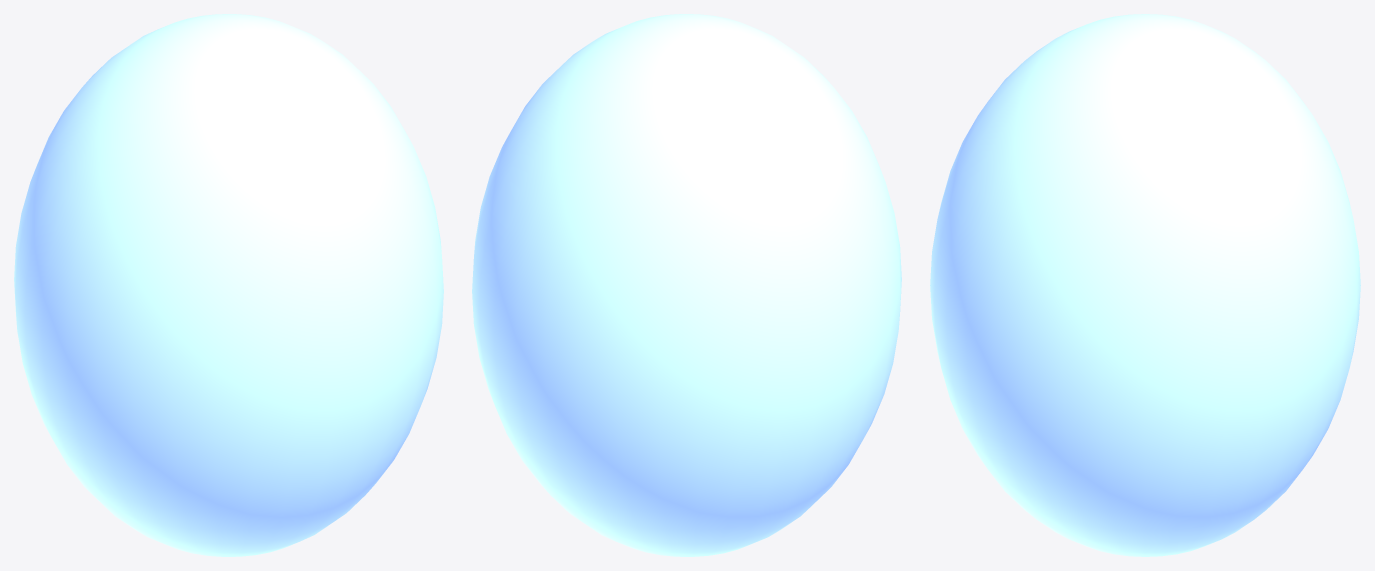
The model's file is chakra_model-l2Km0-la.glb.
The picture shows the model from 3 angles, left to right: view 1: azimuth 30°, elevation 25°; view 2: azimuth 150°, elevation 25°; view 3: azimuth 270°, elevation 25°; orthographic projection.
Parts seen in each view (by area): view 1: aura; view 2: aura; view 3: aura.
Part boxes in pixels (<box>): aura: <box>14,14,443,556</box>; aura: <box>472,14,901,556</box>; aura: <box>930,14,1360,556</box>.
Bounding box in the file's own units: 3.2 × 4.2 × 3.2.
